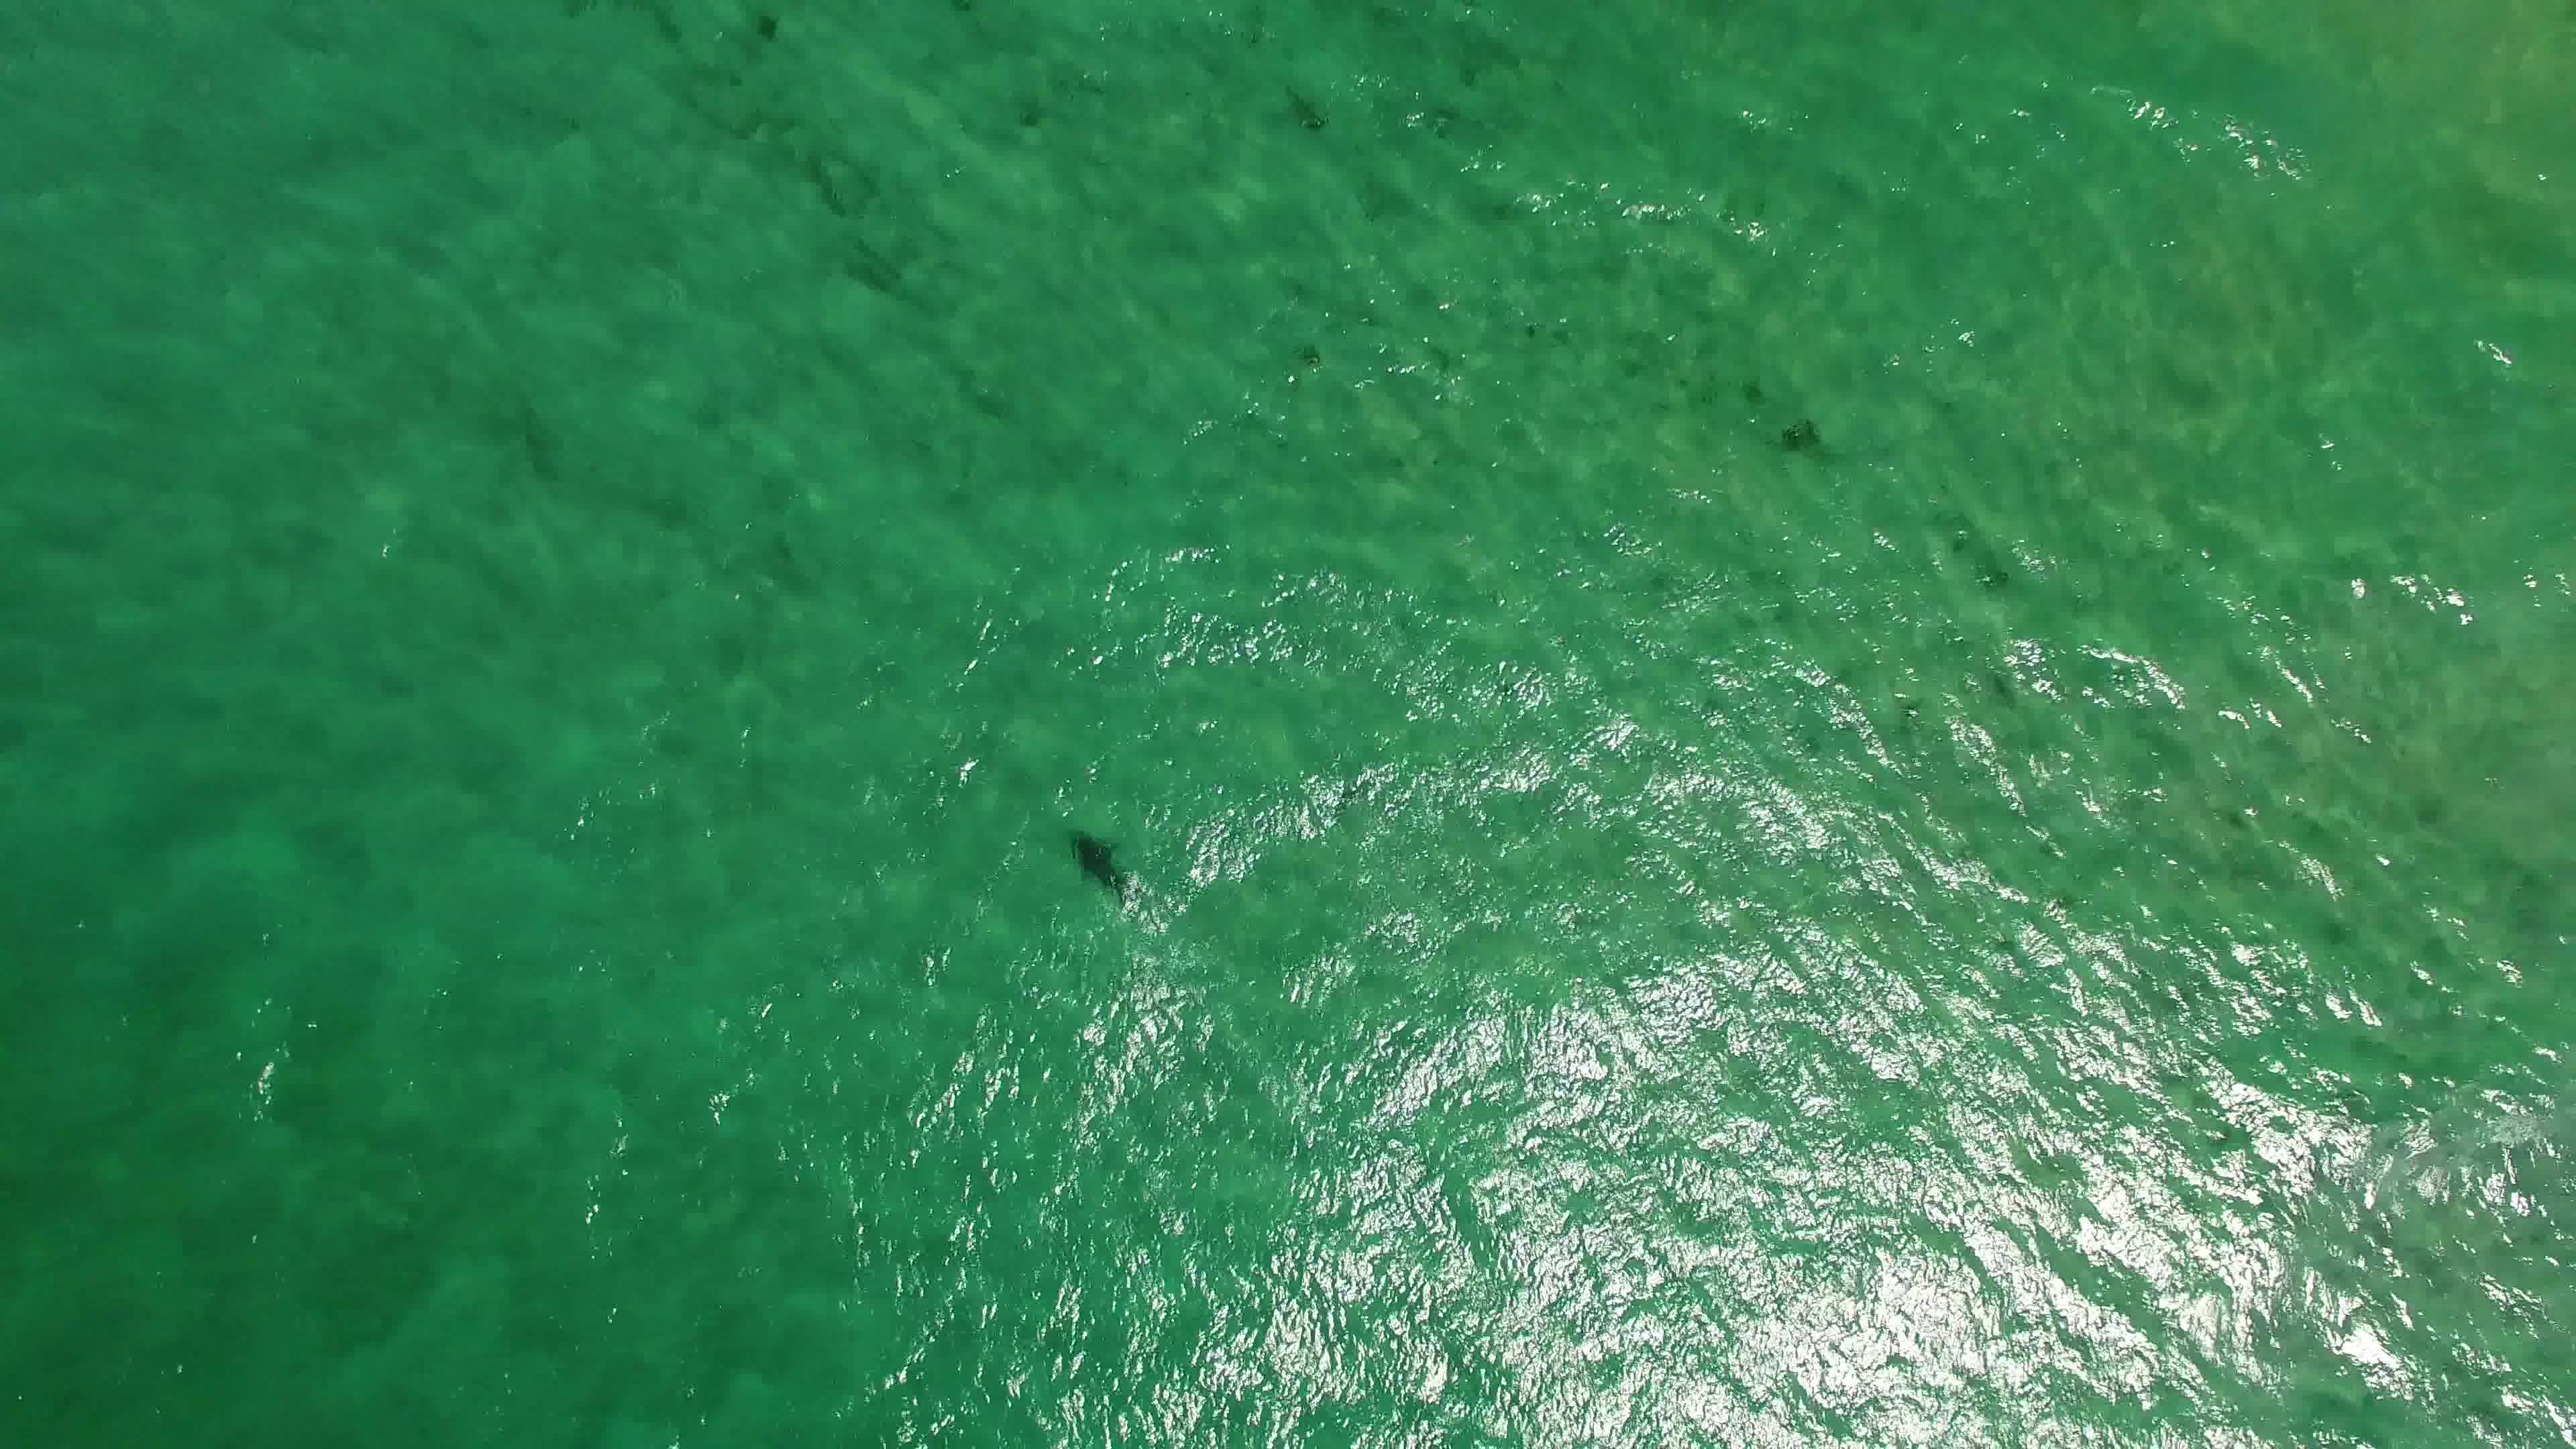shark: (1062, 826, 1150, 913)
